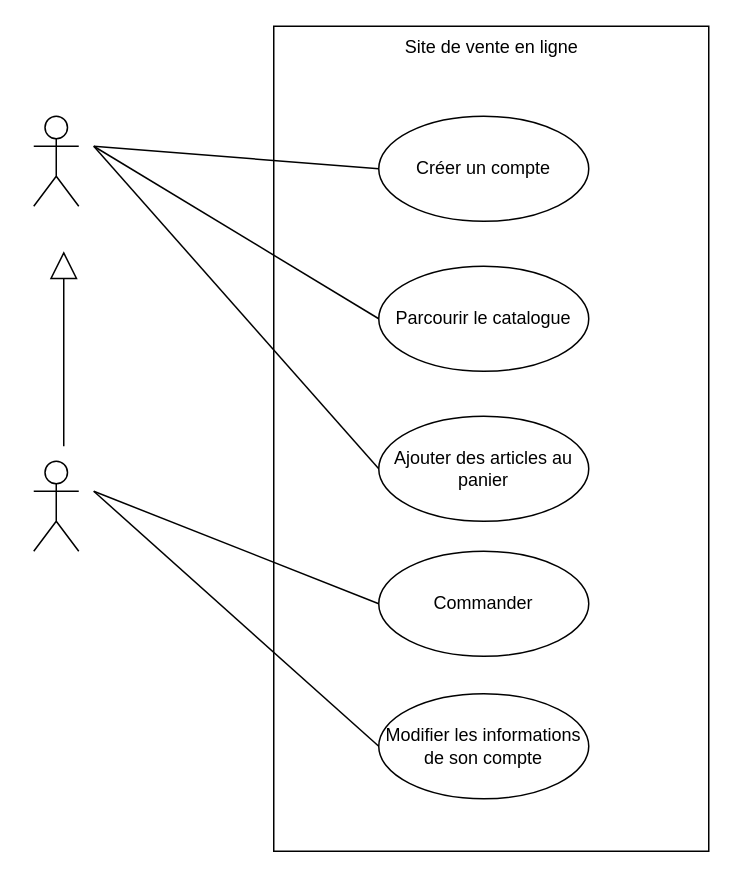
The diagram is 735 pixels wide and 878 high, and some of its shapes have lost their labels. The centre of each missing label's shape, as x and y in pixels:
"Client" goes at (55,505).
"Visiteur" goes at (55,160).
